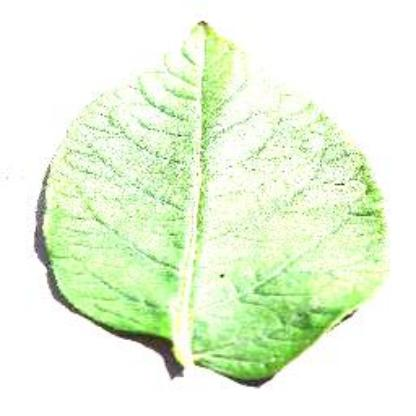Healthy-plant: (22, 10, 402, 394)
